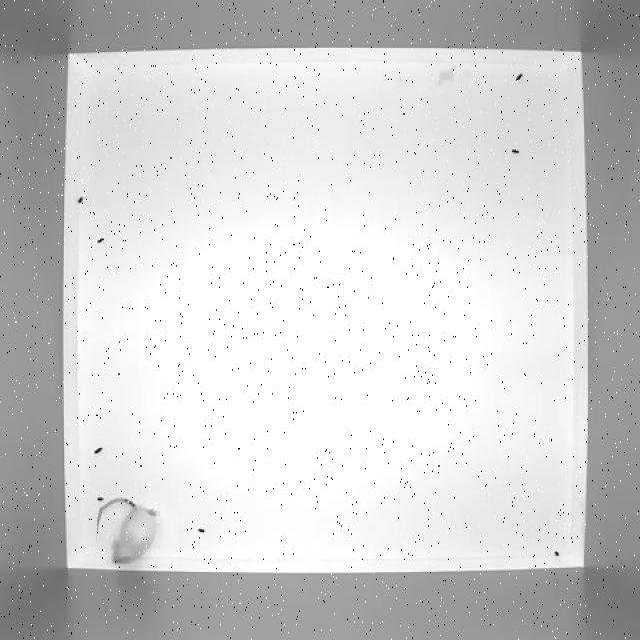rat: (98, 497, 160, 566)
